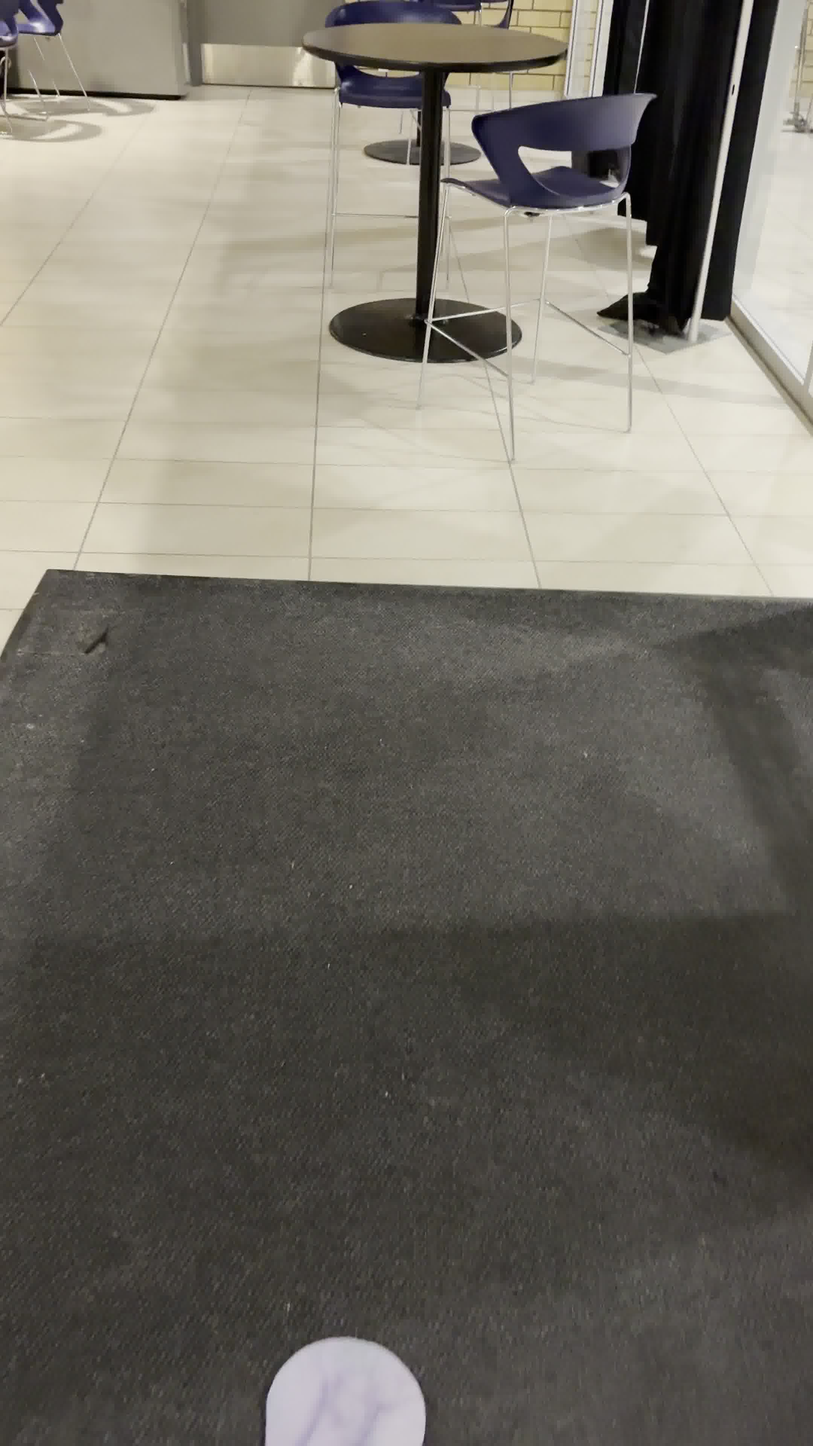Target: (261, 1332, 427, 1446)
